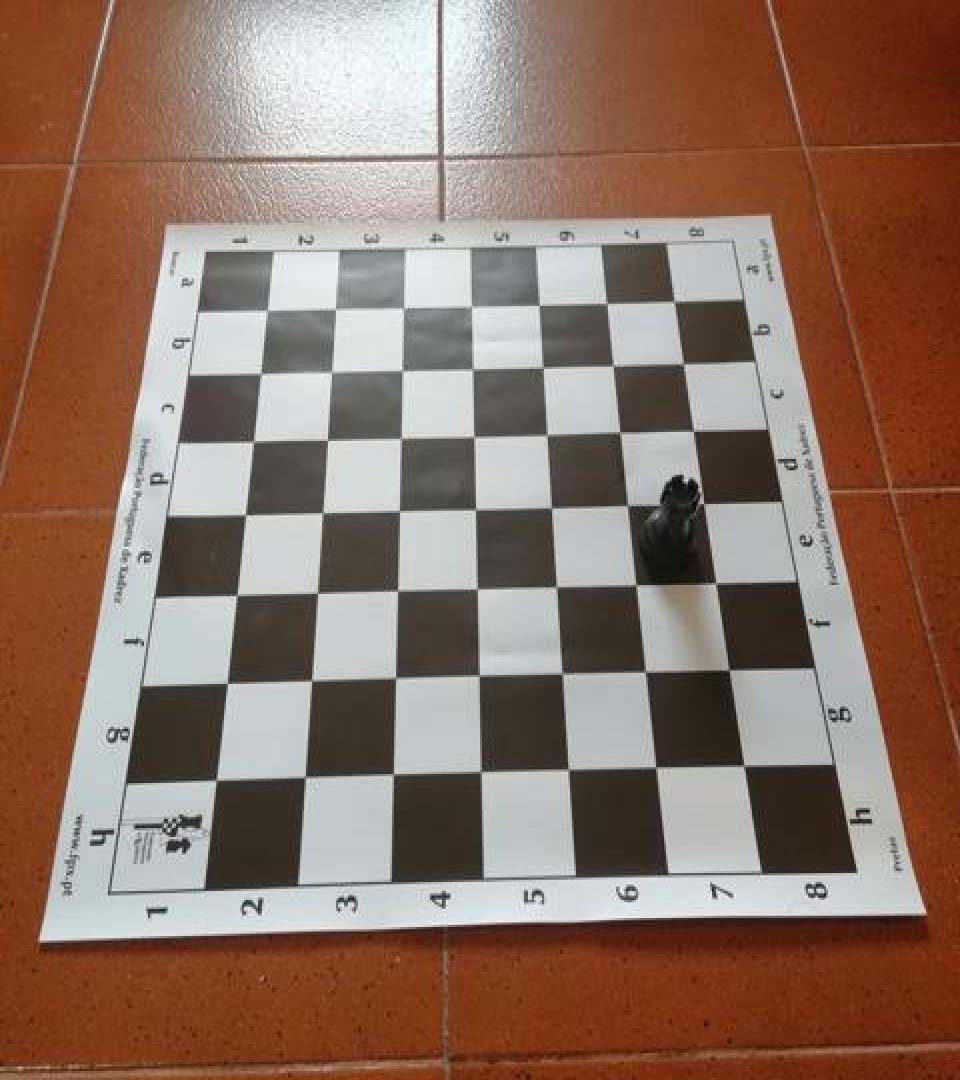xcorner: (384, 572, 416, 609), (718, 653, 750, 690), (383, 661, 415, 698), (662, 282, 694, 318), (594, 282, 626, 318), (526, 284, 558, 320), (458, 284, 490, 320), (390, 284, 422, 320), (321, 286, 353, 322), (252, 286, 284, 322), (671, 344, 703, 380), (601, 346, 633, 382), (531, 346, 563, 382), (460, 348, 492, 384), (388, 348, 420, 384), (317, 349, 349, 385), (245, 350, 277, 386), (682, 413, 714, 449), (609, 413, 641, 449), (535, 414, 567, 450), (461, 415, 493, 451), (387, 416, 419, 452), (313, 418, 345, 454), (238, 418, 270, 454), (693, 486, 725, 522), (617, 487, 649, 523), (540, 488, 572, 524), (463, 490, 495, 526), (386, 490, 418, 526), (308, 493, 340, 529), (230, 494, 262, 530), (705, 566, 737, 602), (626, 567, 658, 603), (546, 569, 578, 605), (465, 570, 497, 606), (303, 574, 335, 610), (221, 575, 253, 611), (635, 656, 667, 692), (552, 657, 584, 693), (467, 659, 499, 695), (298, 662, 330, 698), (212, 665, 244, 701), (733, 749, 765, 785), (646, 752, 678, 788), (558, 754, 590, 790), (470, 756, 502, 792), (381, 758, 413, 794), (292, 760, 324, 796), (202, 763, 234, 799)
